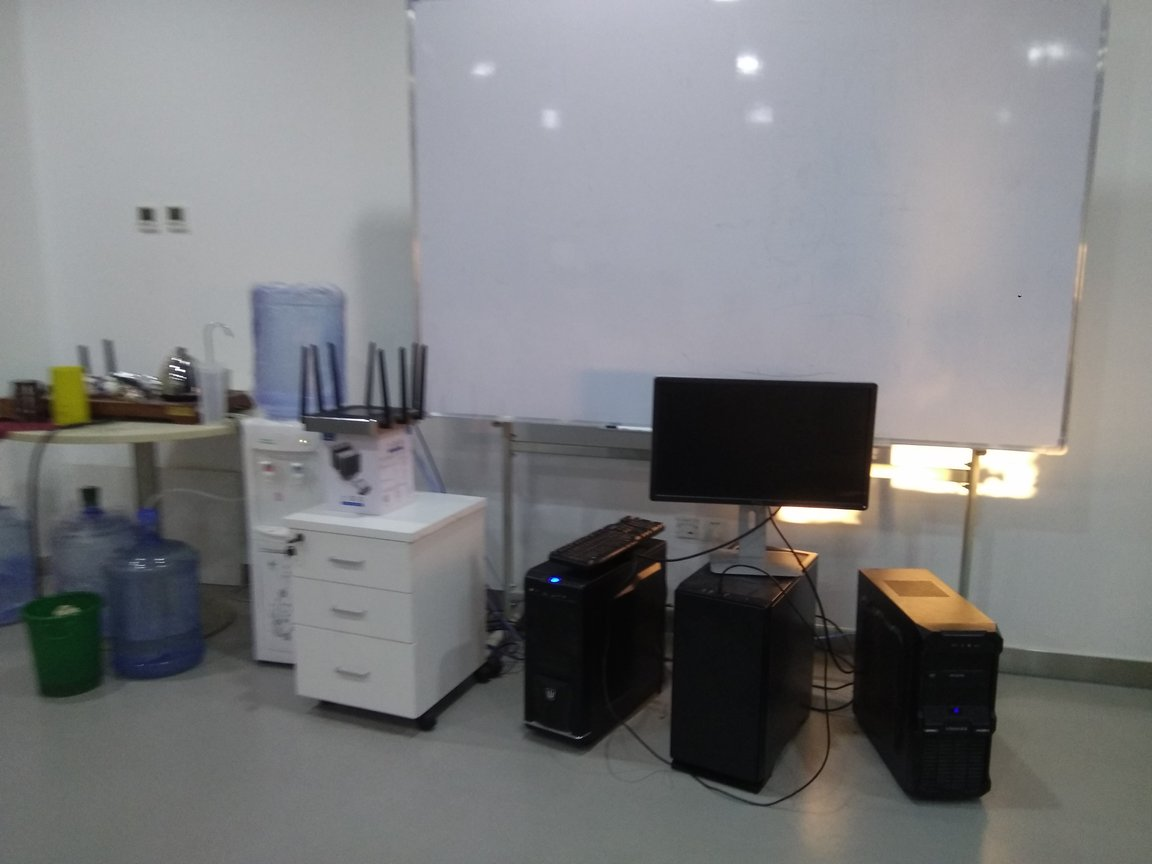computer: (677, 542, 817, 801), (515, 536, 672, 762), (856, 565, 999, 808)
drawer chest: (285, 483, 491, 751)
monitor: (648, 372, 882, 590)
scuttlebutt: (237, 277, 358, 429), (109, 505, 206, 693), (45, 482, 133, 629), (1, 511, 36, 626)
water dispenser: (243, 414, 375, 671)
